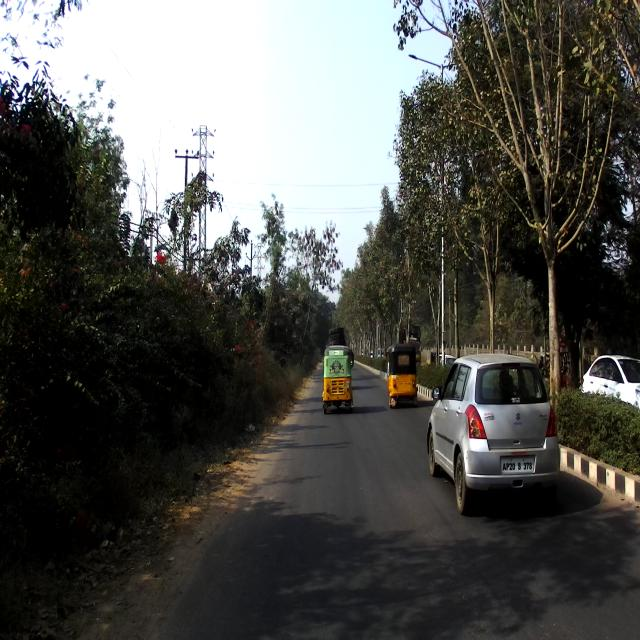auto ahead at: (386, 341, 420, 404), (322, 340, 352, 410)
car ahead at: (427, 352, 562, 502)
